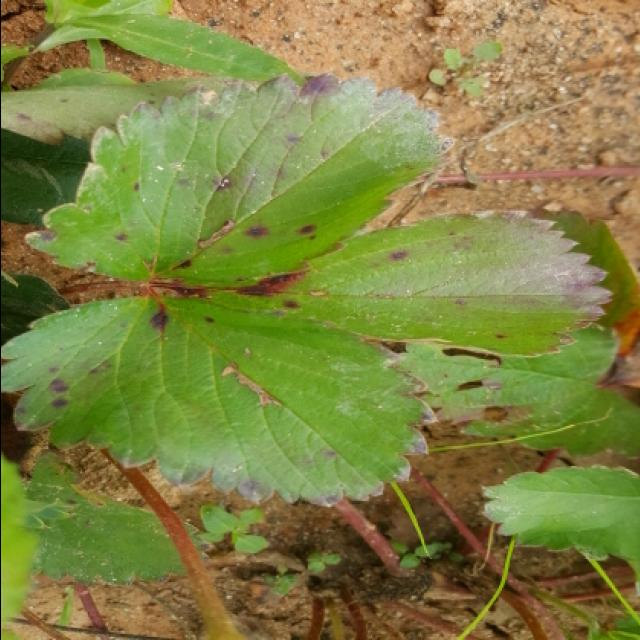Leaf Spot: (2, 288, 439, 508), (21, 73, 457, 290), (218, 207, 614, 359), (2, 77, 239, 149)
